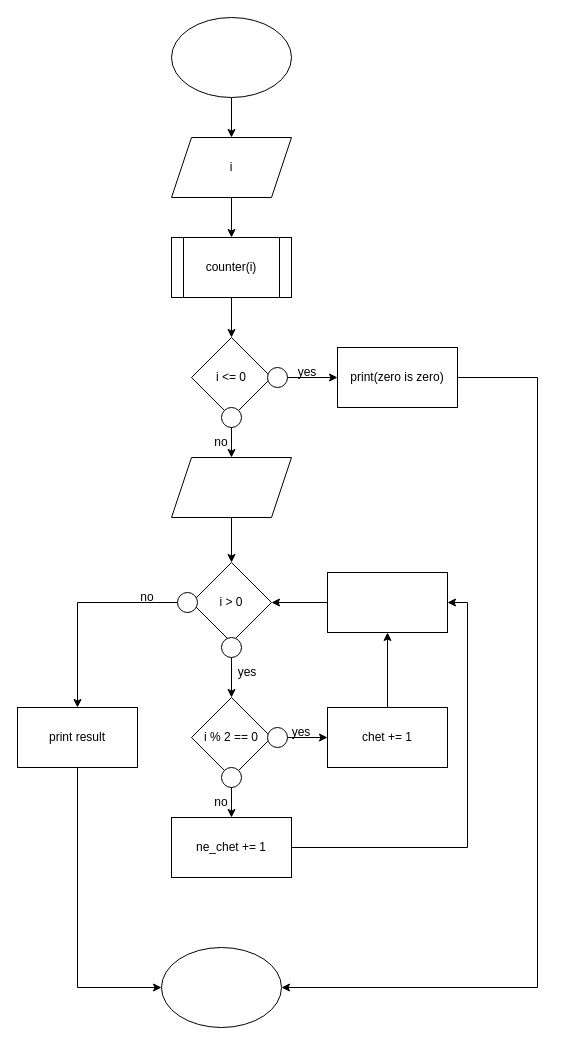
The diagram is 563 pixels wide and 1045 high, and some of its shapes have lost their labels. The centre of each missing label's shape, as x and y in pixels:
"chet = 0 ne_chet = 0" goes at pixel 231 487.
"i //= 10" goes at pixel 387 602.
"Конец" goes at pixel 221 987.
"Начало" goes at pixel 231 57.
